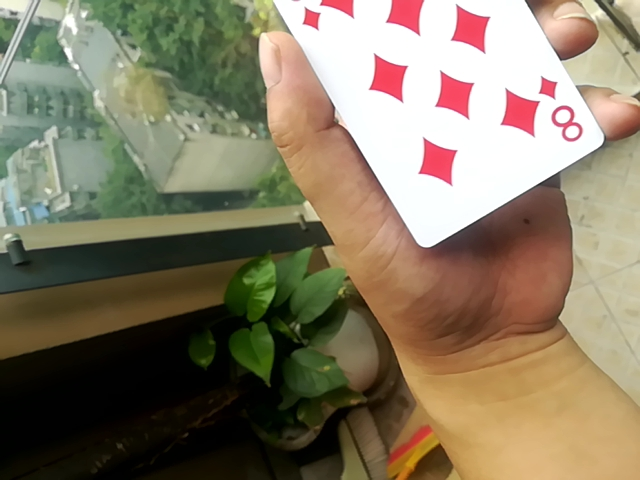fk 8: (256, 0, 606, 260)
